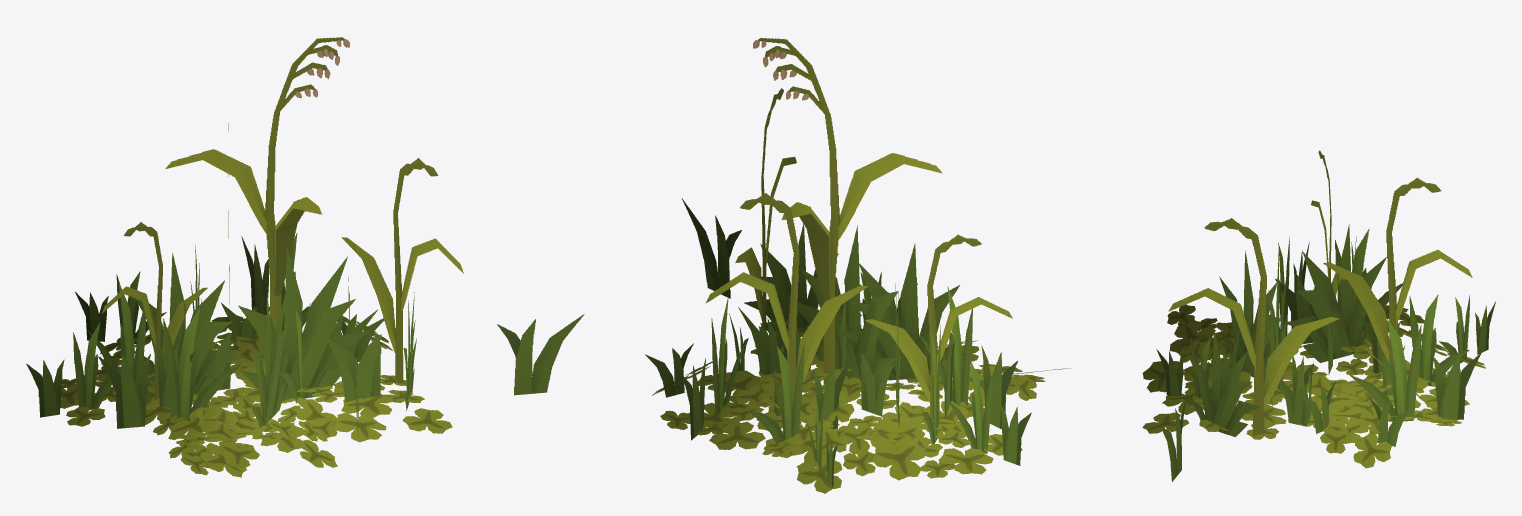
Rendered from SM_Env_Ground_Cover_03.fbx.
The picture shows the model from 3 angles, left to right: view 1: azimuth 30°, elevation 25°; view 2: azimuth 150°, elevation 25°; view 3: azimuth 270°, elevation 25°; orthographic projection. The views are drawn at different scales.
Parts seen in each view (by area): view 1: SM_Env_Ground_Cover_03_LOD0; view 2: SM_Env_Ground_Cover_03_LOD0; view 3: SM_Env_Ground_Cover_03_LOD0.
Part boxes in pixels (x1,y1,x2,y2): SM_Env_Ground_Cover_03_LOD0: (26,37,584,477); SM_Env_Ground_Cover_03_LOD0: (645,37,1071,493); SM_Env_Ground_Cover_03_LOD0: (1142,150,1495,481).
Size of what is drawn, in the model's own units: 208 by 160 by 161.
